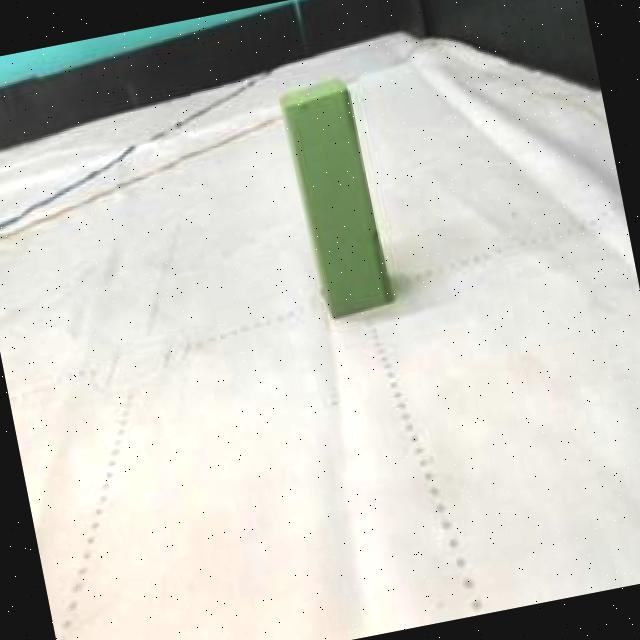greenbox: (270, 63, 403, 330)
